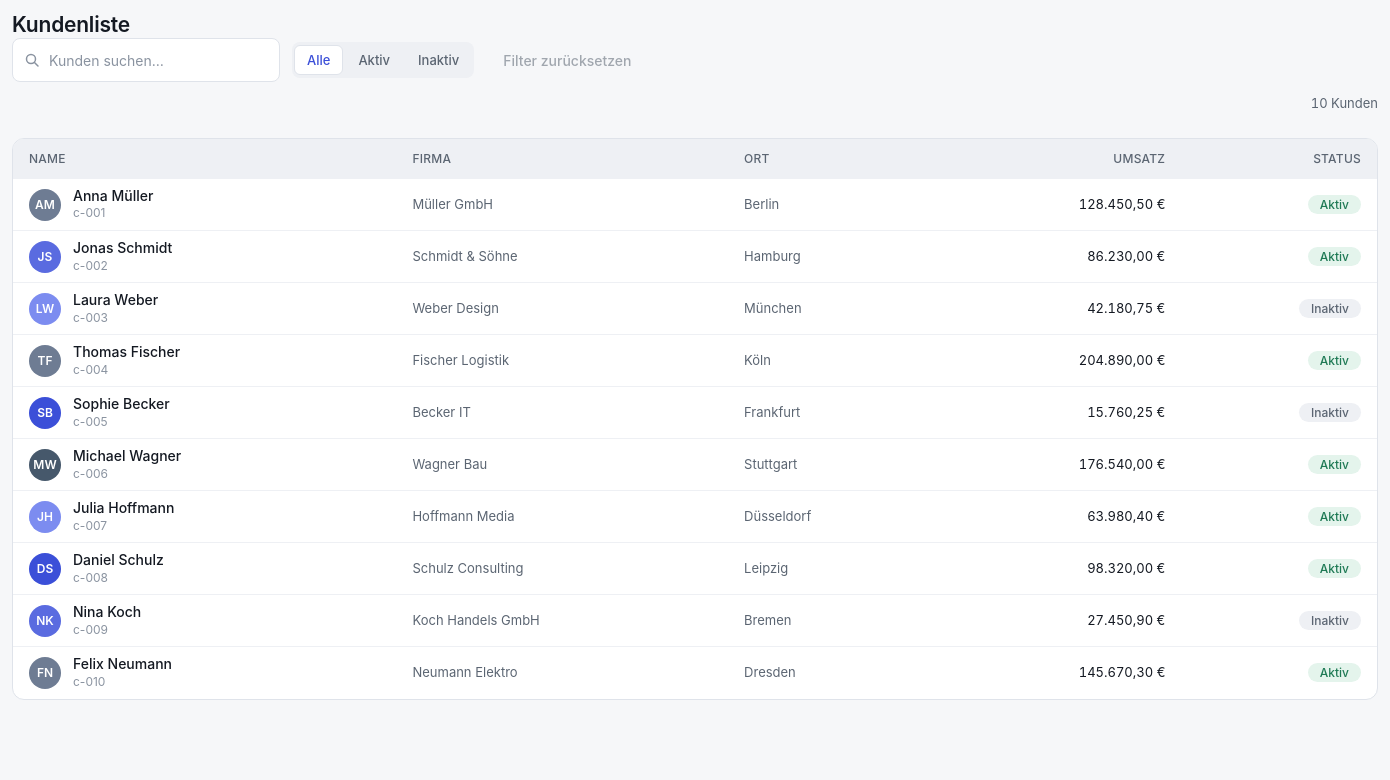
Test: CustomerList filtering › combines the status filter with the search as an intersection
Click the radio button labelled "Inaktiv" at (439, 60), box [405, 45, 472, 75]
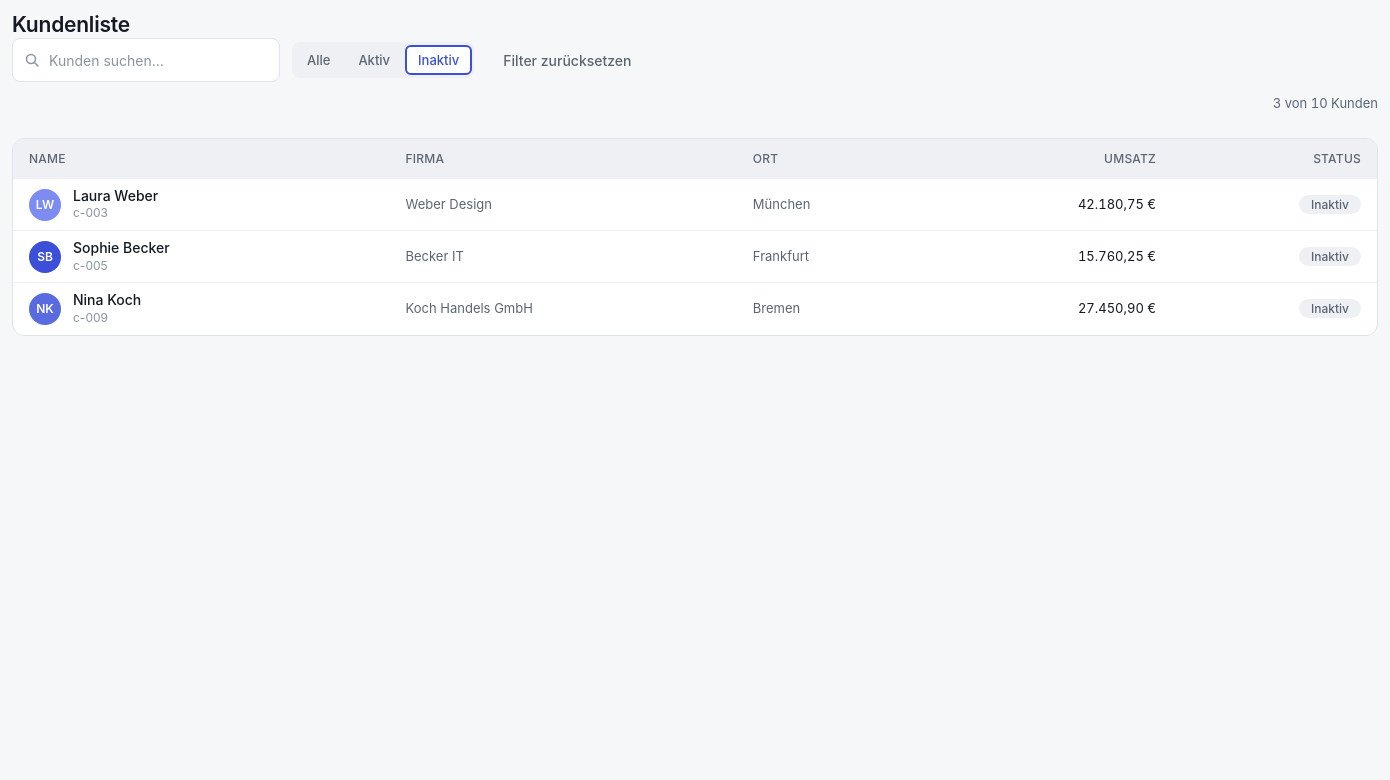
Expected: the text "3 von 10 Kunden" is shown, [1273, 95, 1378, 111]
Type "frankfurt" into the field with placeholder "Kunden suchen…" at (146, 60), box [12, 38, 280, 82]
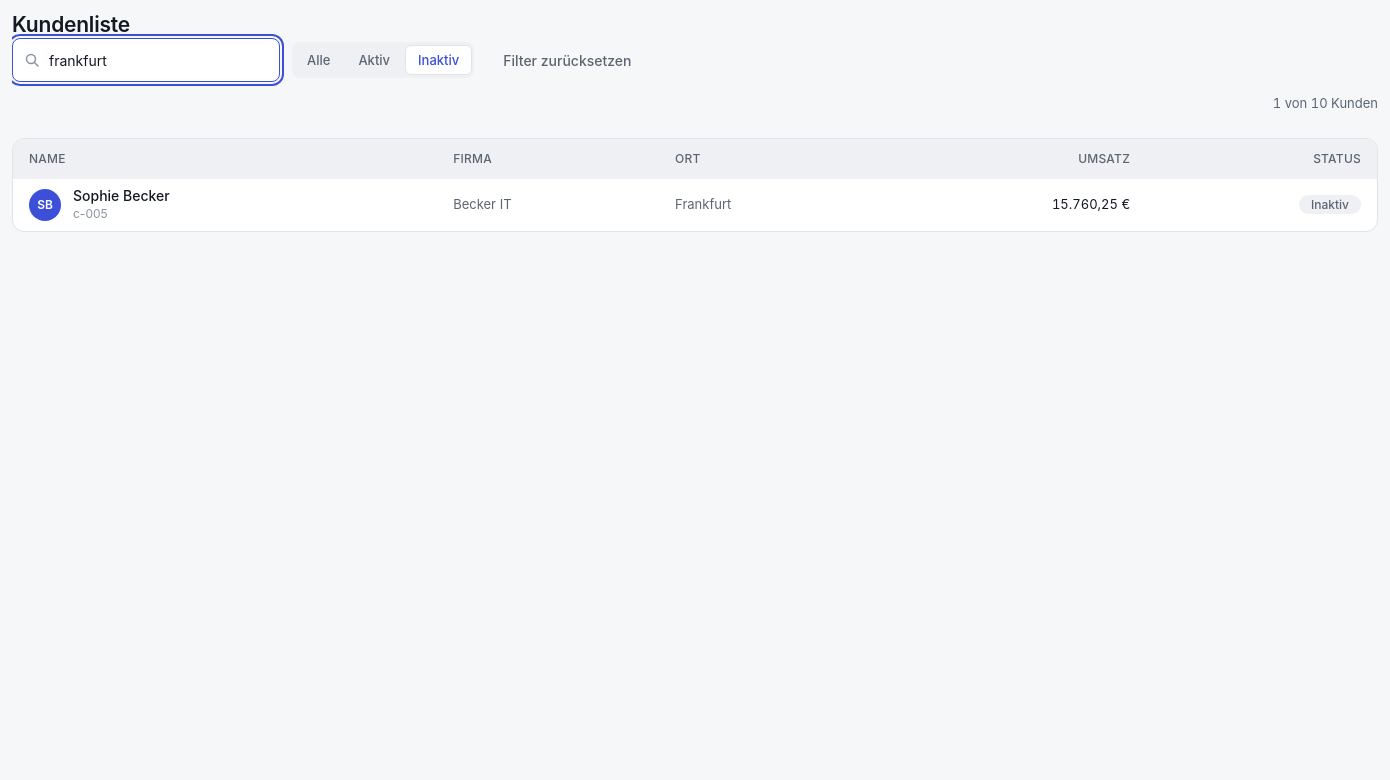
Expected: the text "1 von 10 Kunden" is shown, [1273, 95, 1378, 111]
Click the radio button labelled "Aktiv" at (374, 60), box [345, 45, 403, 75]
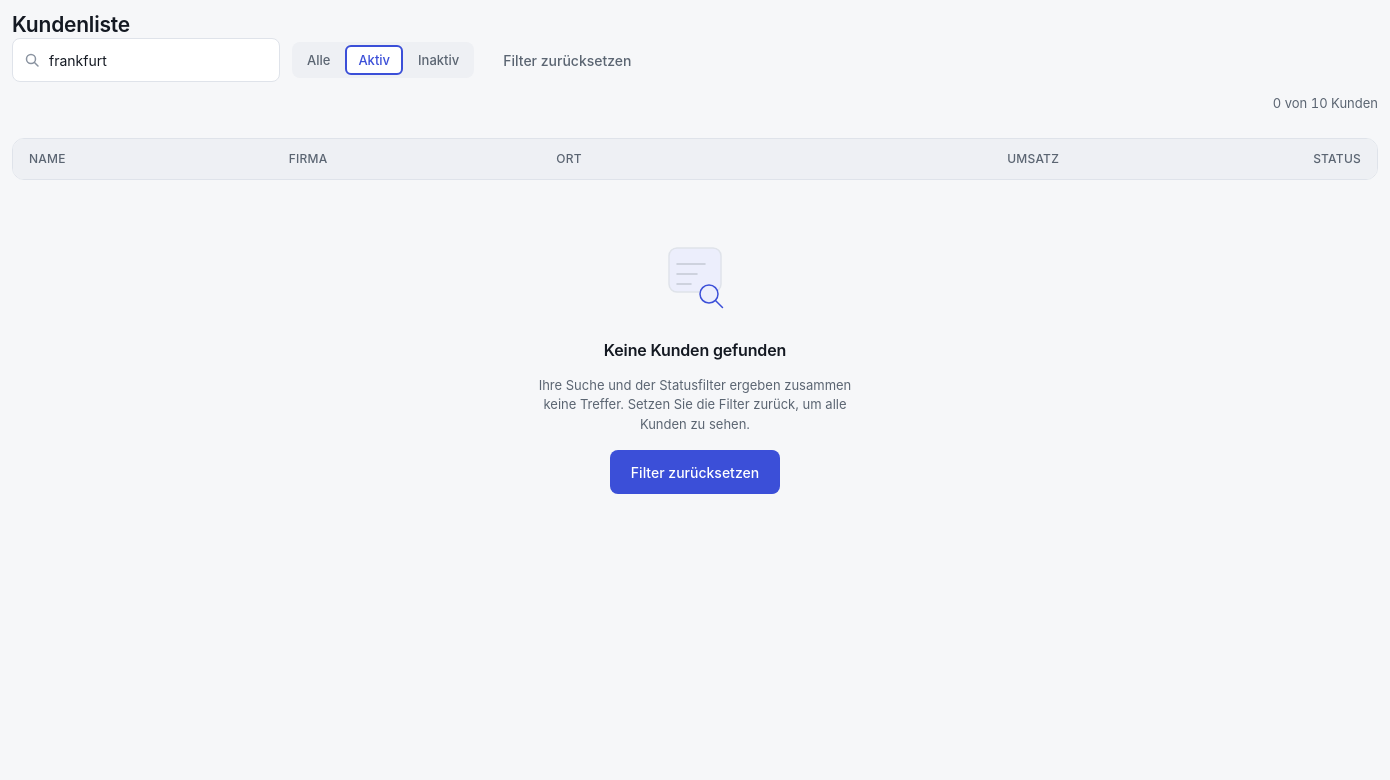
Expected: the heading "Keine Kunden gefunden" is shown, [604, 340, 786, 360]
